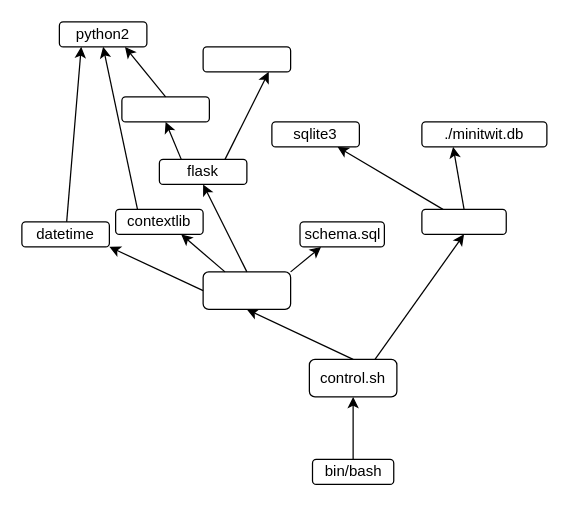
Image size: 569x506. Some labels were removed from this diagram. Each missing label, with the centre of its shape:
"flag_tool.c" belongs at (x=463, y=221).
"jinja" belongs at (x=246, y=59).
"minitwit.py" belongs at (x=246, y=290).
"werkzeug" belongs at (x=165, y=109).
